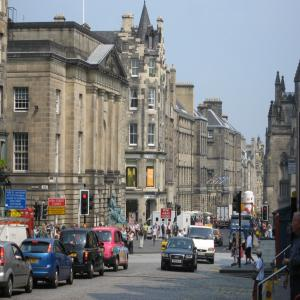Vehicle-registration-plate: (173, 260, 182, 265), (70, 254, 78, 258), (29, 260, 39, 263), (101, 247, 105, 252), (198, 254, 206, 256)
